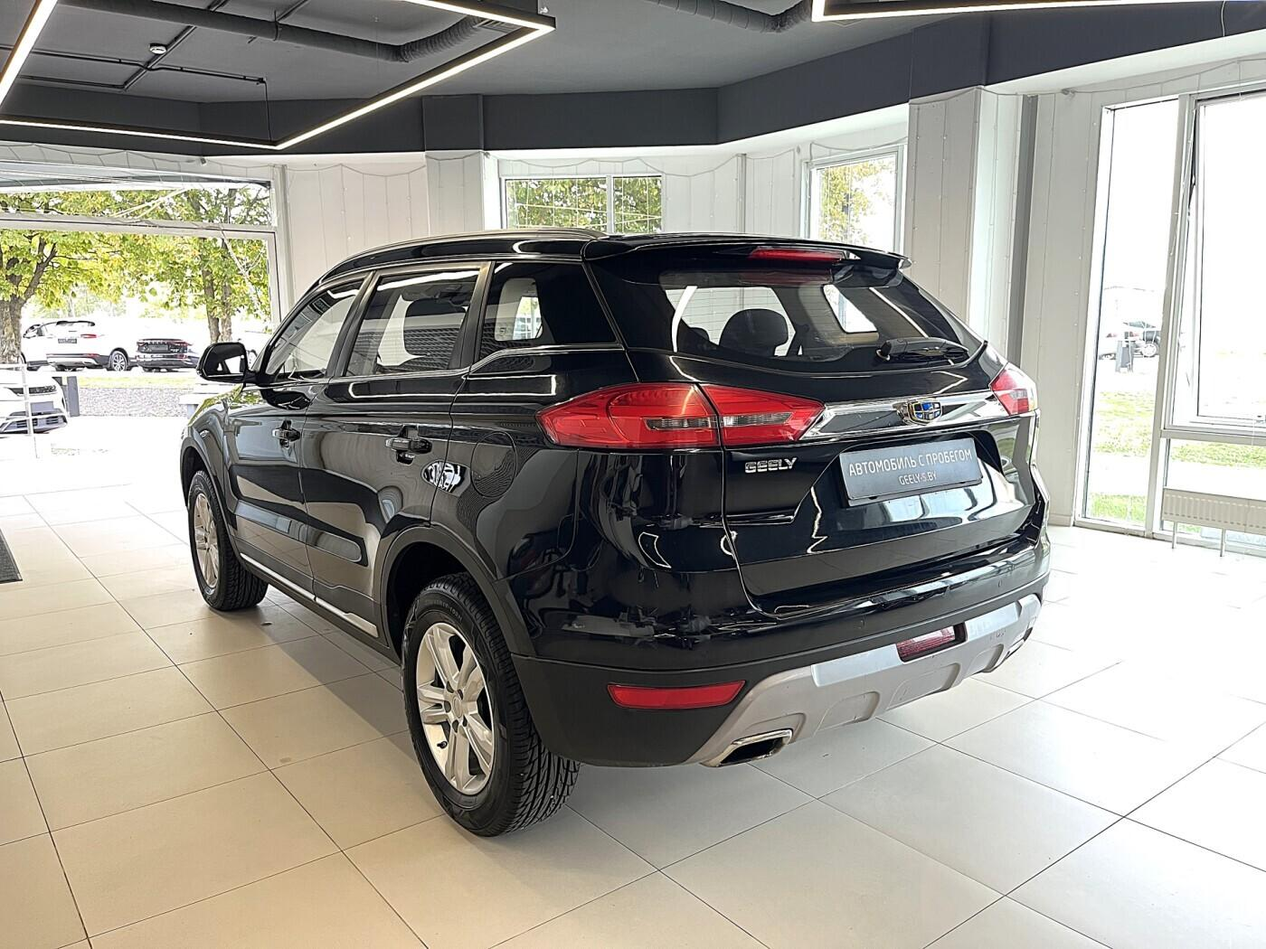Atlas_2016-2023: (172, 223, 1058, 842)
